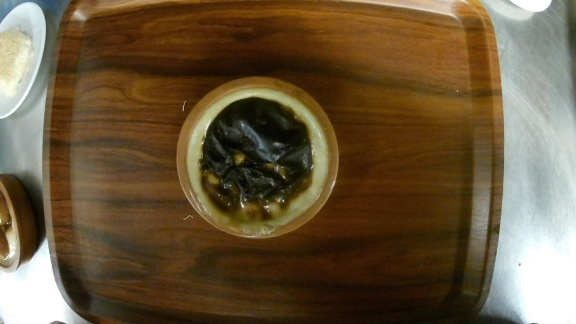sutlac: (176, 77, 340, 239)
